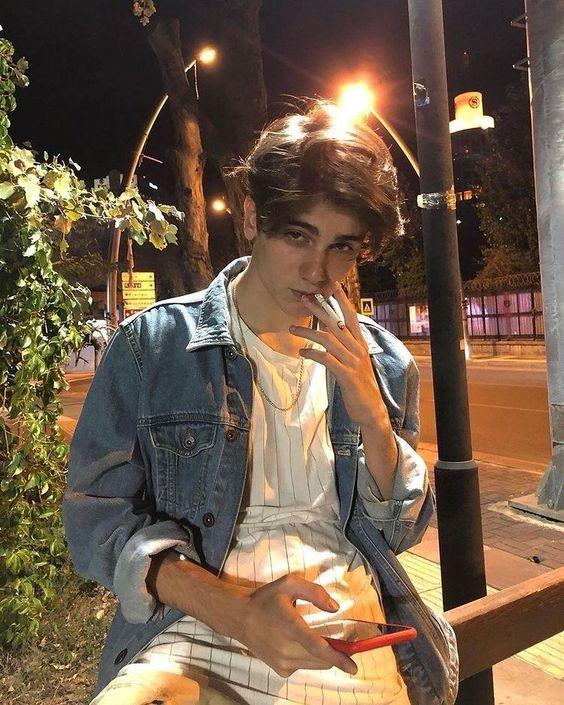cigarette: (313, 293, 345, 331)
